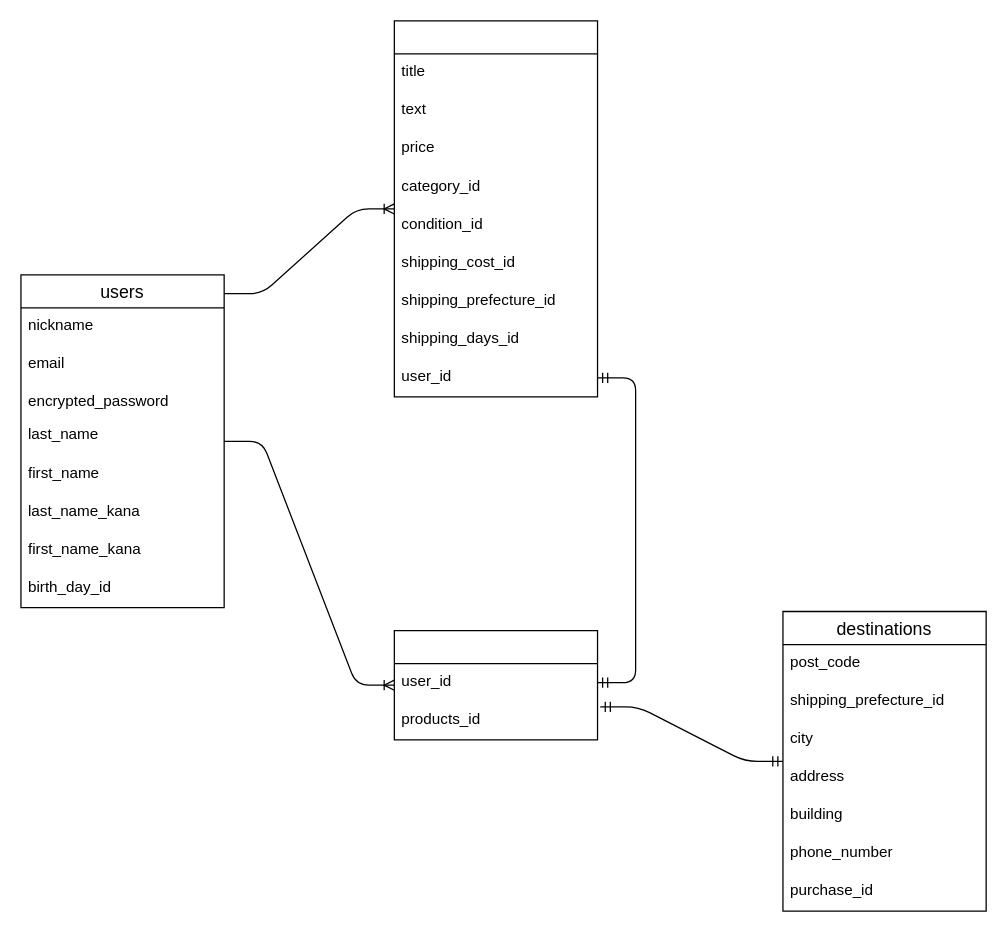
This 1007x932 diagram has some shape labels left out. Here are the shapes that lost their labels. From the top down, the box of each, then its label:
(393, 20, 598, 397): products
(393, 629, 598, 740): purchases
